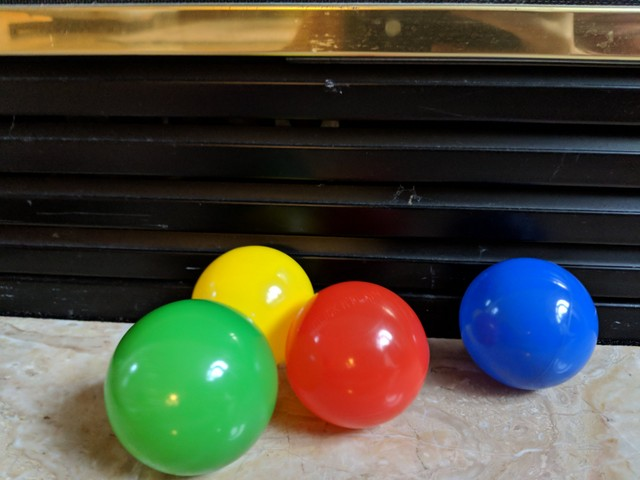ball: (195, 246, 315, 366)
